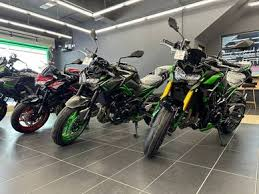motorcycle: (141, 18, 248, 162), (52, 28, 175, 145), (11, 52, 86, 136), (1, 52, 41, 123)
